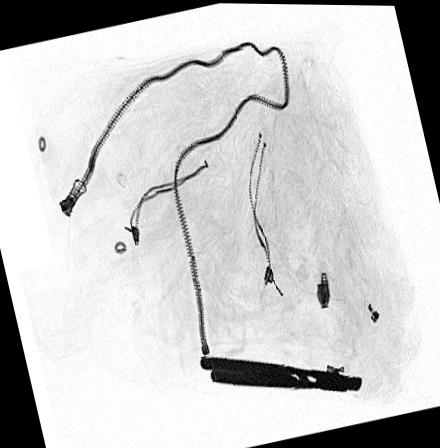Pliers: (199, 354, 365, 394)
